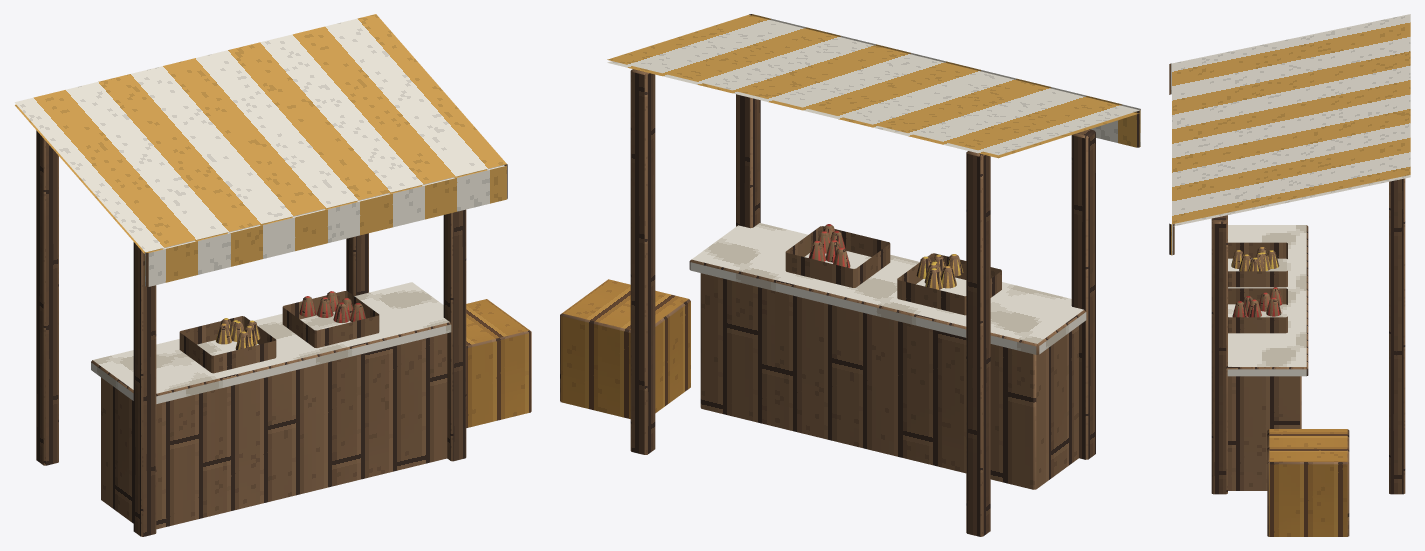
Rendered from market_stall_2.glb.
3 views of the same model, side by side, from view 1: azimuth 30°, elevation 25°; view 2: azimuth 150°, elevation 25°; view 3: azimuth 270°, elevation 25° (orthographic). The views are drawn at different scales.
Visible parts, largest first — view 1: market_stall_3; view 2: market_stall_3; view 3: market_stall_3.
Part boxes in pixels (bbox=[...]): market_stall_3: bbox=[14, 14, 531, 536]; market_stall_3: bbox=[560, 14, 1140, 536]; market_stall_3: bbox=[1169, 14, 1410, 536].
Size of the model in its own units: 3.39 by 2.65 by 1.77.
7 materials, 7 textured.
